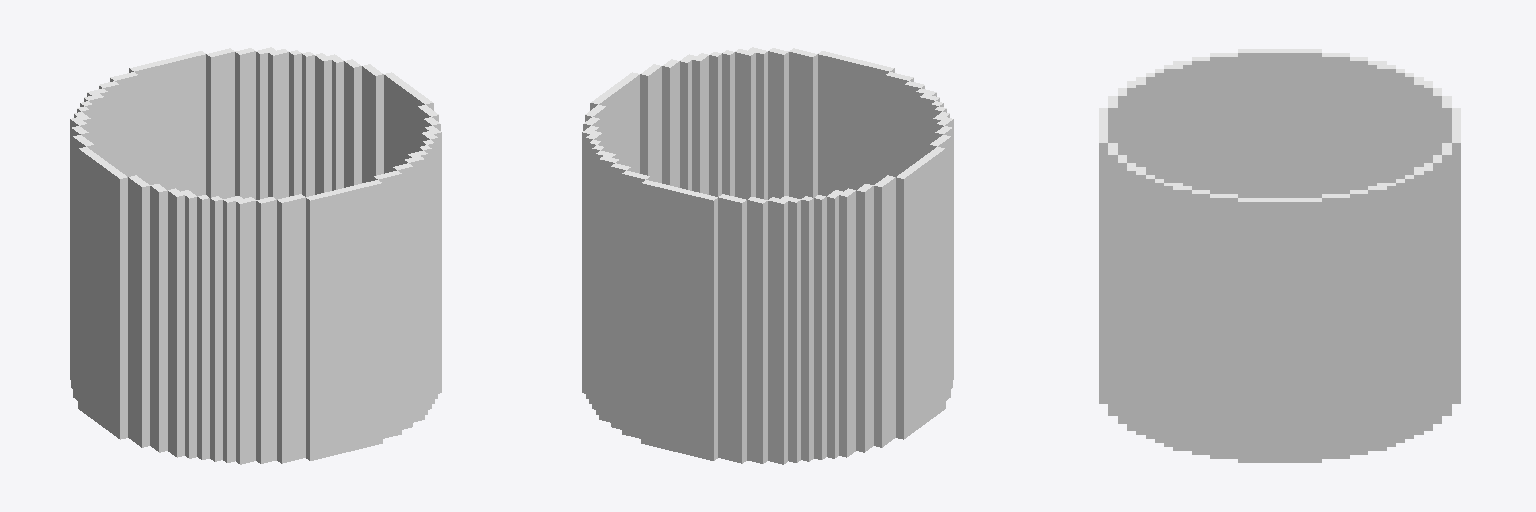
Rendered from Caldron.obj.
3 views of the same model, side by side, from view 1: azimuth 30°, elevation 25°; view 2: azimuth 150°, elevation 25°; view 3: azimuth 270°, elevation 25° (orthographic).
Size of the model in its own units: 39 by 31 by 39.